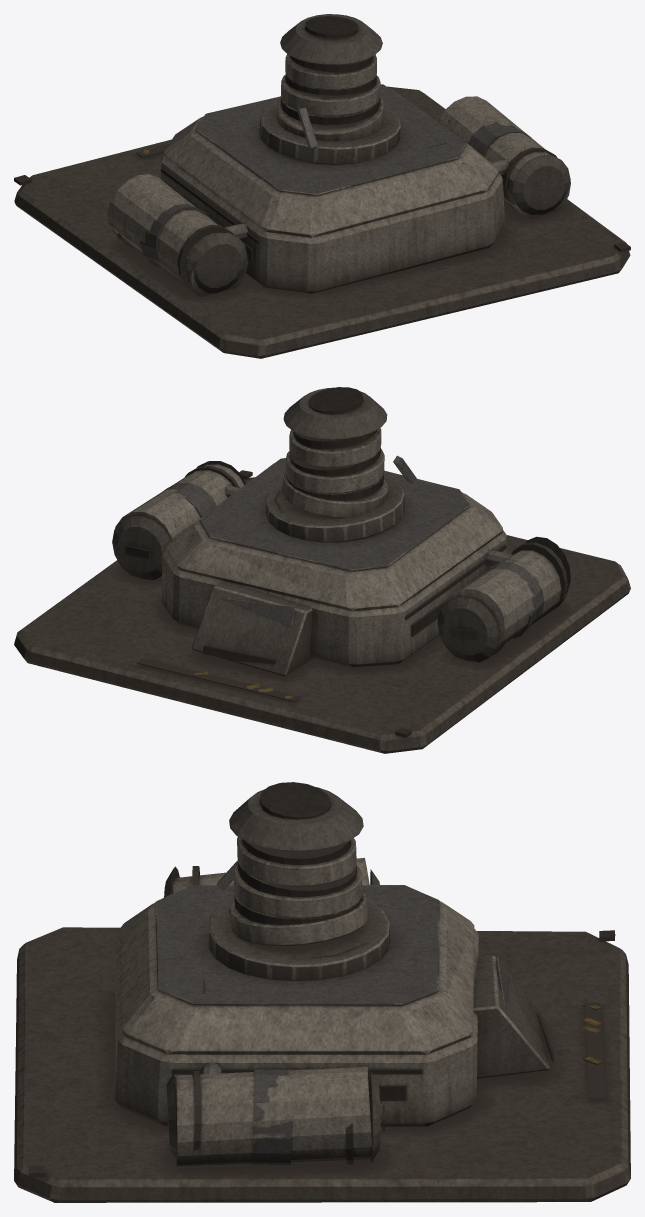
File: ord_converter_wreck.fbx
3 renders of one model, top to bottom at view 1: azimuth 30°, elevation 25°; view 2: azimuth 150°, elevation 25°; view 3: azimuth 270°, elevation 25°, orthographic. The views are drawn at different scales.
Parts seen in each view (by area): view 1: base_bar, coil_bar; view 2: base_bar, coil_bar; view 3: base_bar, coil_bar.
Boxes of the visible parts, box(x1,y1,x2,y2) form: base_bar: box(14, 84, 630, 358); coil_bar: box(276, 14, 383, 141); base_bar: box(14, 455, 630, 753); coil_bar: box(282, 387, 388, 518); base_bar: box(14, 857, 630, 1202); coil_bar: box(229, 782, 368, 946).
Bounding box in the file's own units: 1559 × 985 × 1574.
2 materials, 2 textured.
